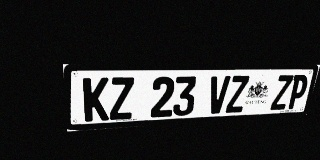2: (151, 76, 175, 118)
3: (172, 76, 197, 116)
K: (83, 77, 109, 122)
P: (286, 75, 310, 109)
V: (206, 76, 231, 114)
Z: (110, 77, 134, 120), (225, 75, 250, 113), (270, 75, 294, 110)
